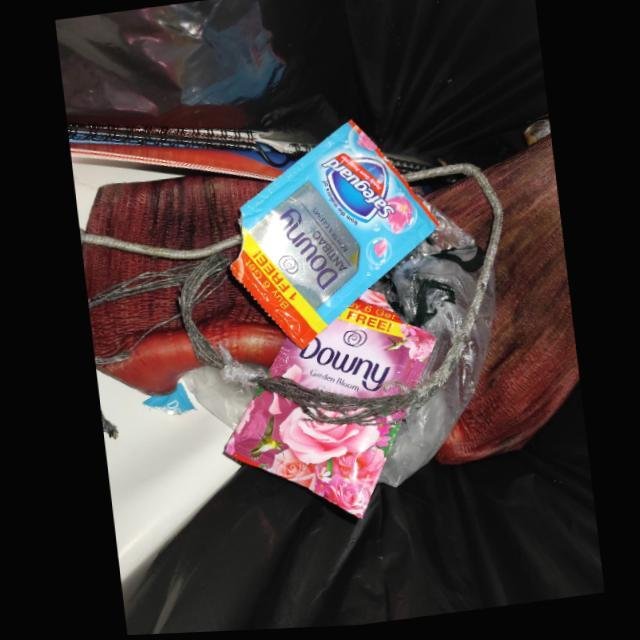biowaste: (433, 139, 578, 472), (78, 177, 284, 397), (420, 182, 492, 258)
paper: (94, 372, 235, 614), (66, 122, 303, 231)
wrapper: (220, 293, 434, 522), (229, 127, 439, 354)
